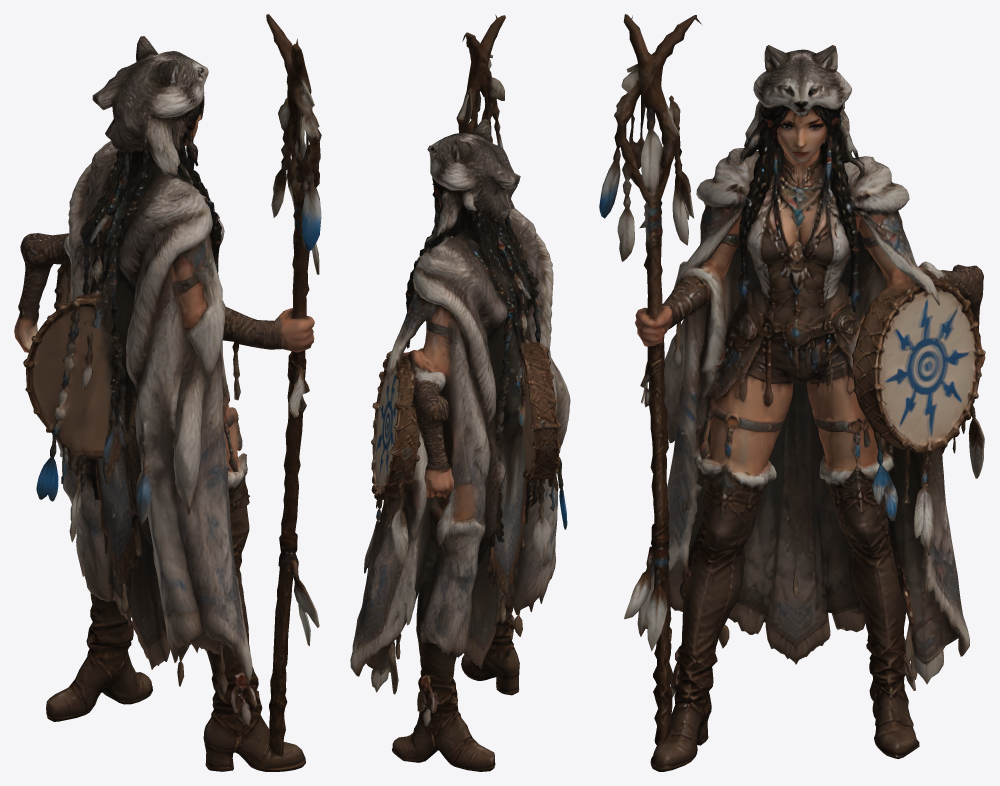
The model's file is drumcaller2_T3-tripo.glb.
3 renders of one model, left to right at view 1: azimuth 30°, elevation 25°; view 2: azimuth 150°, elevation 25°; view 3: azimuth 270°, elevation 25°, orthographic. The views are drawn at different scales.
Parts seen in each view (by area): view 1: tripo_node_b5fd2fe2-c12e-4142-a2ce-9b6d5b90197c; view 2: tripo_node_b5fd2fe2-c12e-4142-a2ce-9b6d5b90197c; view 3: tripo_node_b5fd2fe2-c12e-4142-a2ce-9b6d5b90197c.
Boxes of the visible parts, x1,y1,x2,y2 form: tripo_node_b5fd2fe2-c12e-4142-a2ce-9b6d5b90197c: (14, 14, 321, 771); tripo_node_b5fd2fe2-c12e-4142-a2ce-9b6d5b90197c: (350, 14, 570, 771); tripo_node_b5fd2fe2-c12e-4142-a2ce-9b6d5b90197c: (599, 14, 985, 771).
Bounding box in the file's own units: 0.2844 × 1 × 0.4642.
Materials: 1 (1 with a texture image).
